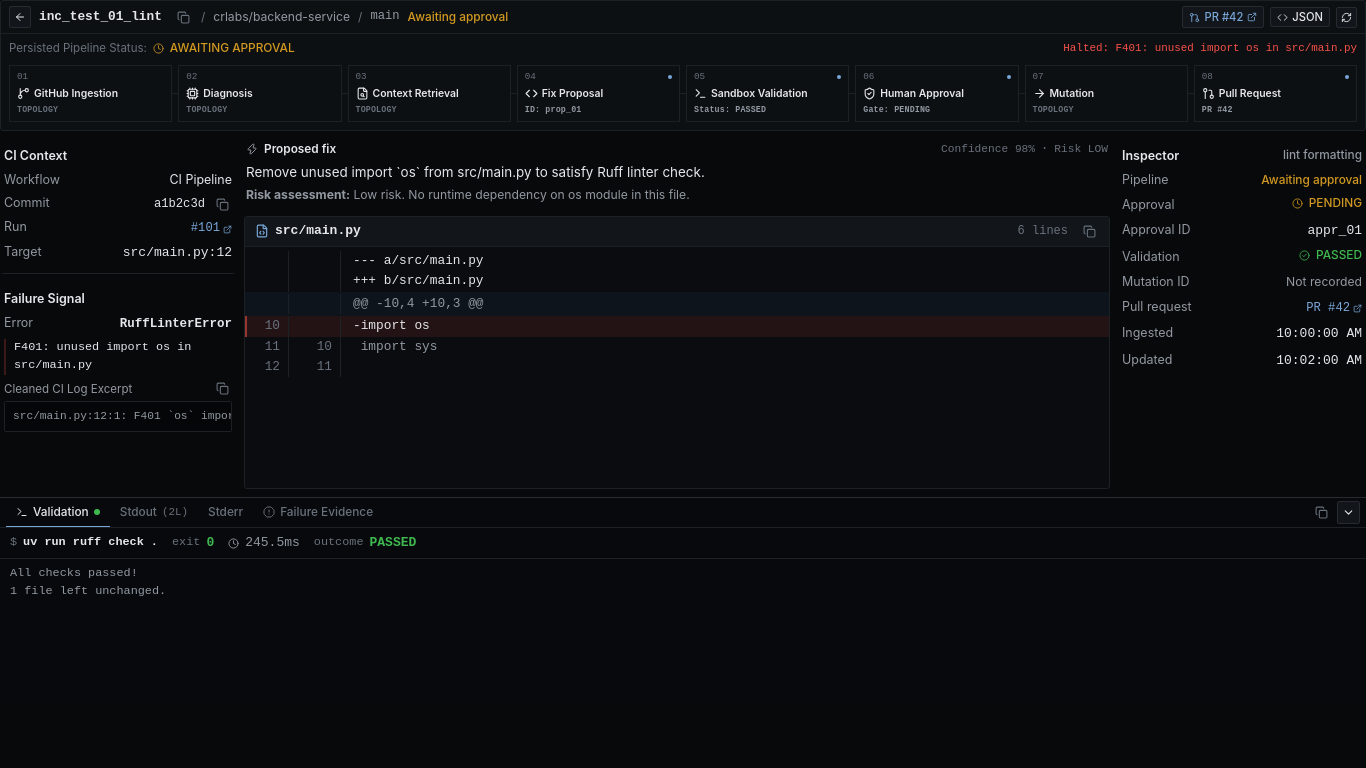
Test: IncidentDetailWorkspace › supports docked terminal tab switching and collapse toggling
Expected: the text "inc_test_01_lint" is shown, [39,8,162,26]
Expected: the element named "Docked Terminal Console" is shown, [0,497,1365,704]
Note: Switch to Stdout tab
Click the button "Stdout (2L)". click: [154, 512]
box: [110,498,198,527]
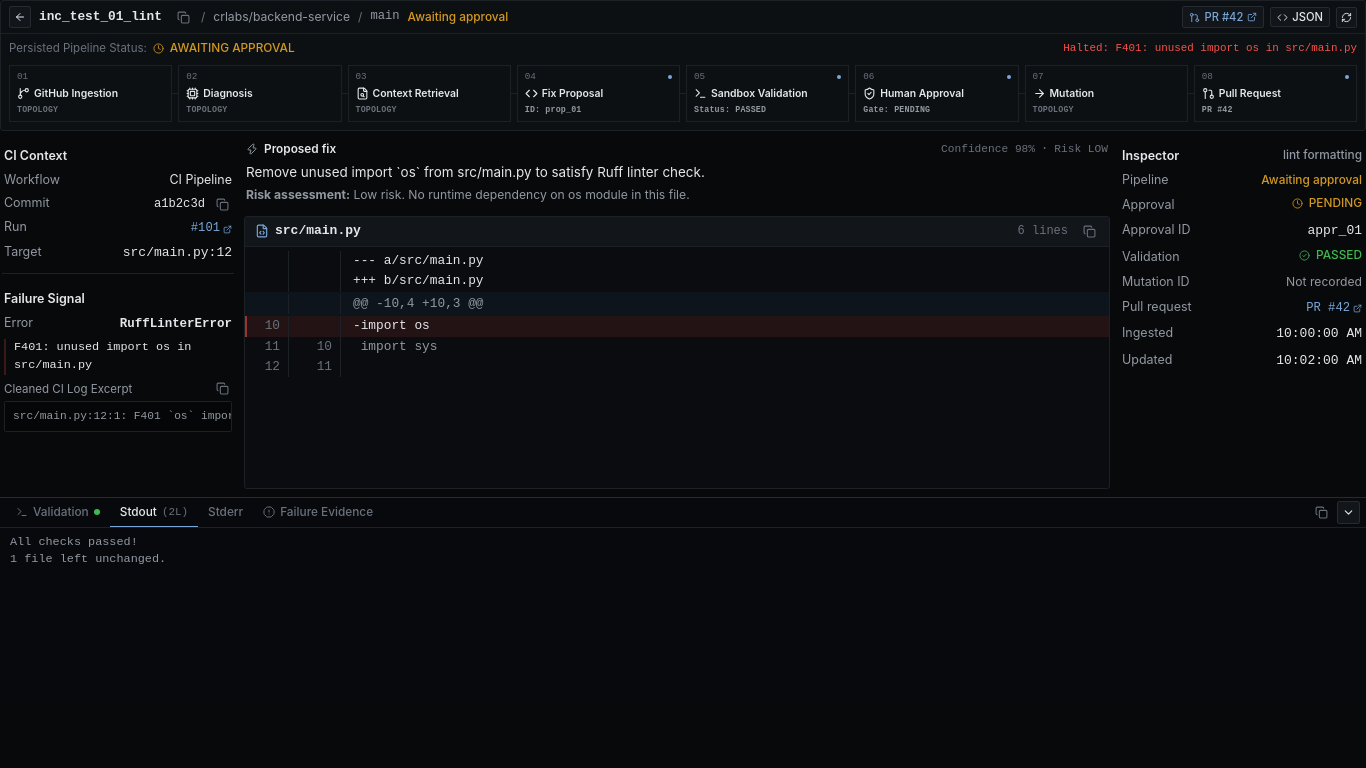
Expected: the text "All checks passed! 1 file left unchanged." is shown, [10,535,166,566]
Note: Switch to Failure Evidence tab
Click the button "Failure Evidence". click: [318, 512]
box: [253,498,383,527]
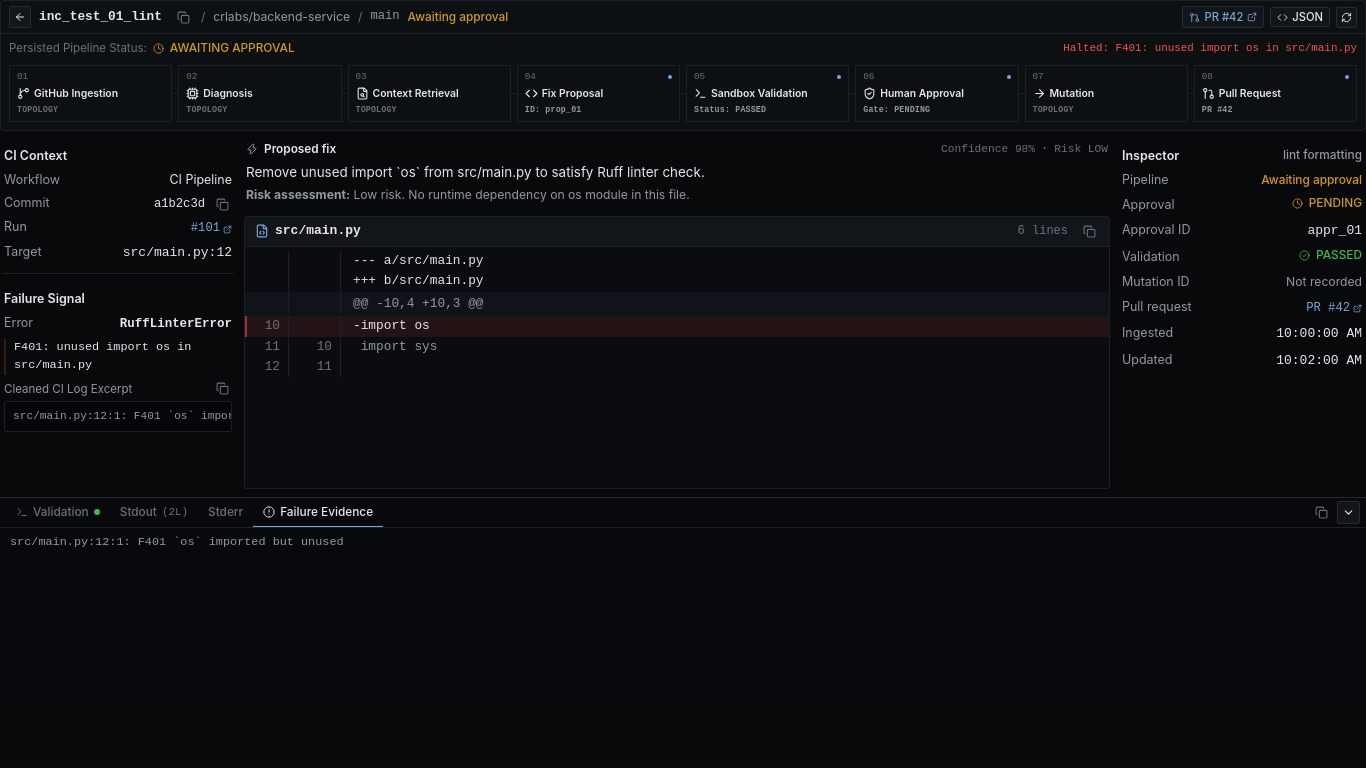
Expected: the text "src/main.py:12:1: F401 `os` imported but unused" below "Cleaned CI Log Excerpt" is shown, [13,410,236,422]
Note: Collapse toggle
Click the button named "collapse console". click: [1348, 512]
box: [1337,501,1360,524]
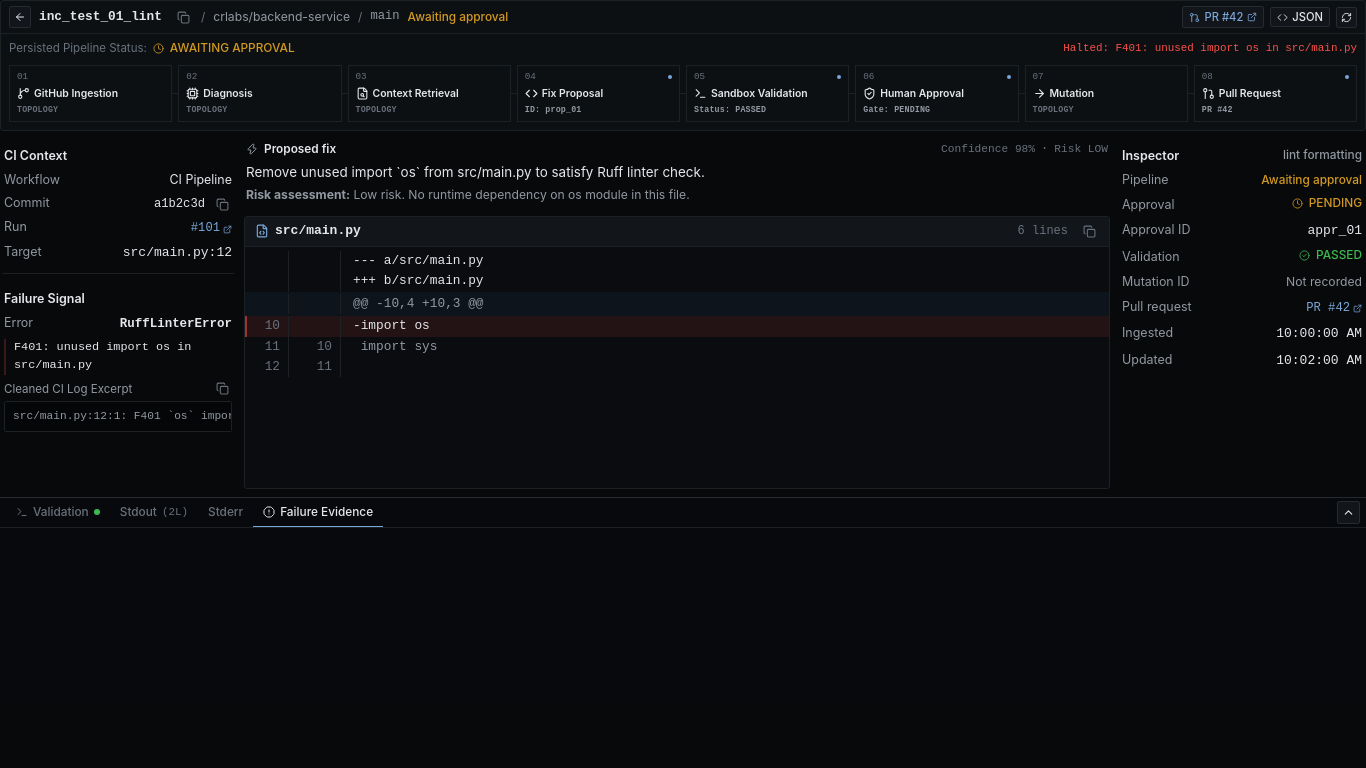
Expected: the text "All checks passed!" is not shown
Note: Expand again
Click the button named "expand console". click: [1348, 512]
box: [1337,501,1360,524]
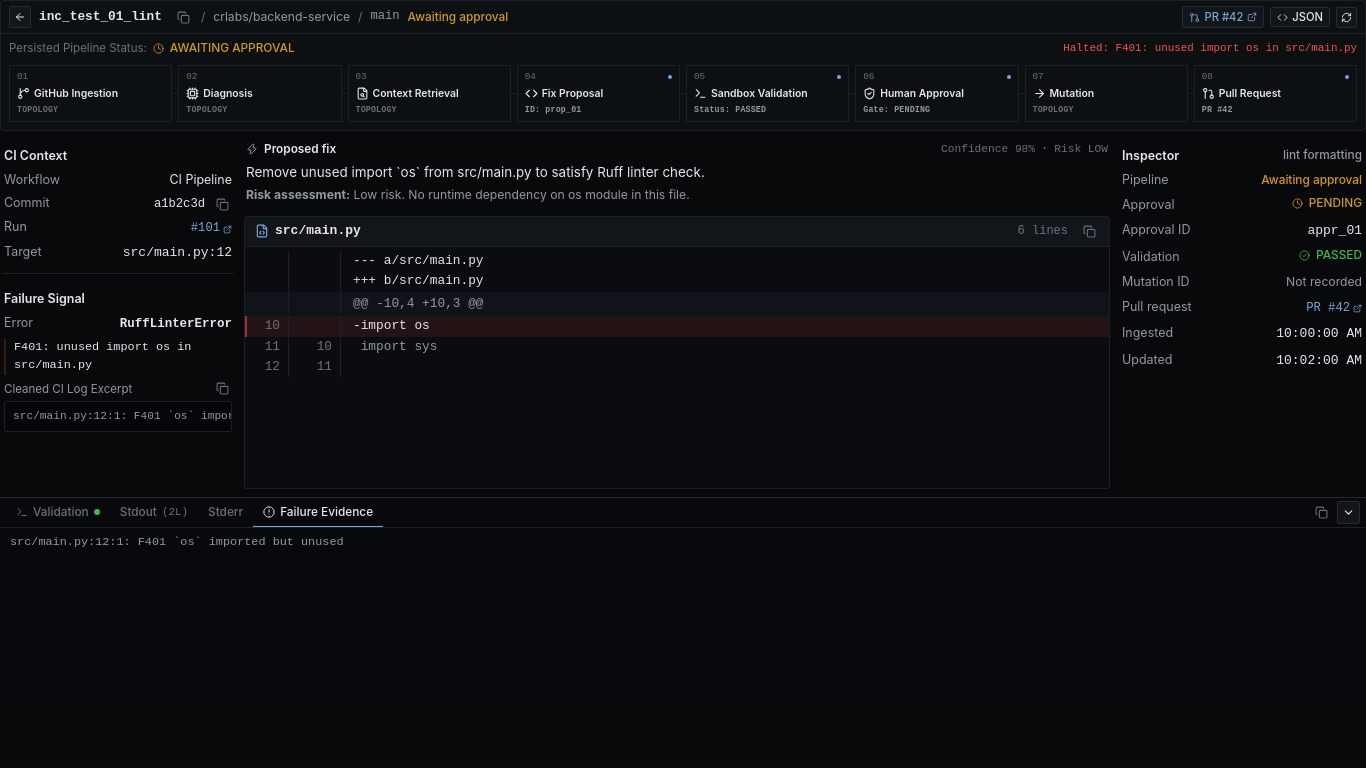
Expected: the button named "collapse console" is shown, [1337,501,1360,524]
